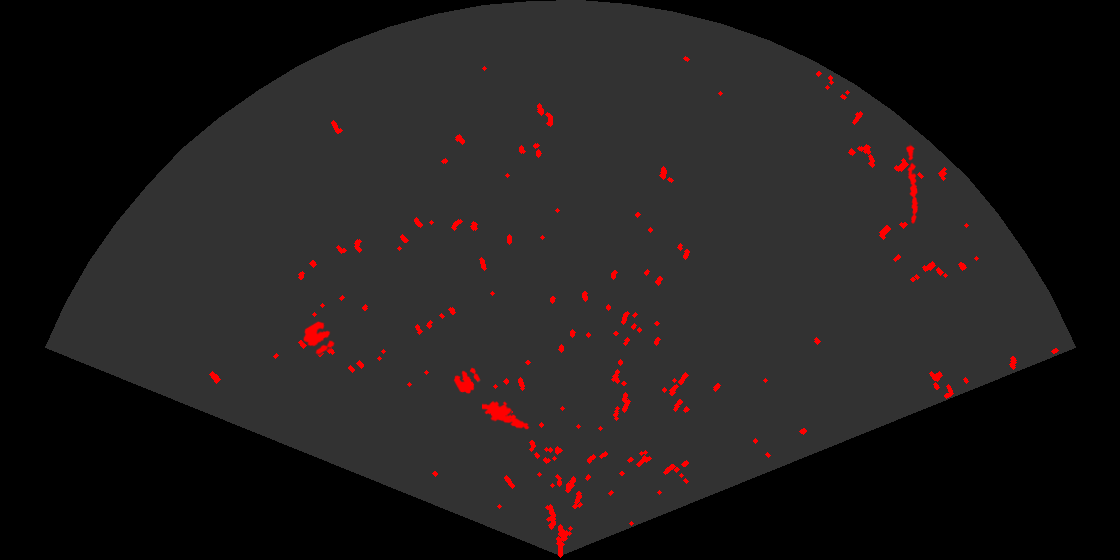ball: (301, 320, 336, 356), (452, 366, 482, 395)
chain: (905, 142, 920, 224)
frogman: (482, 399, 532, 431)
